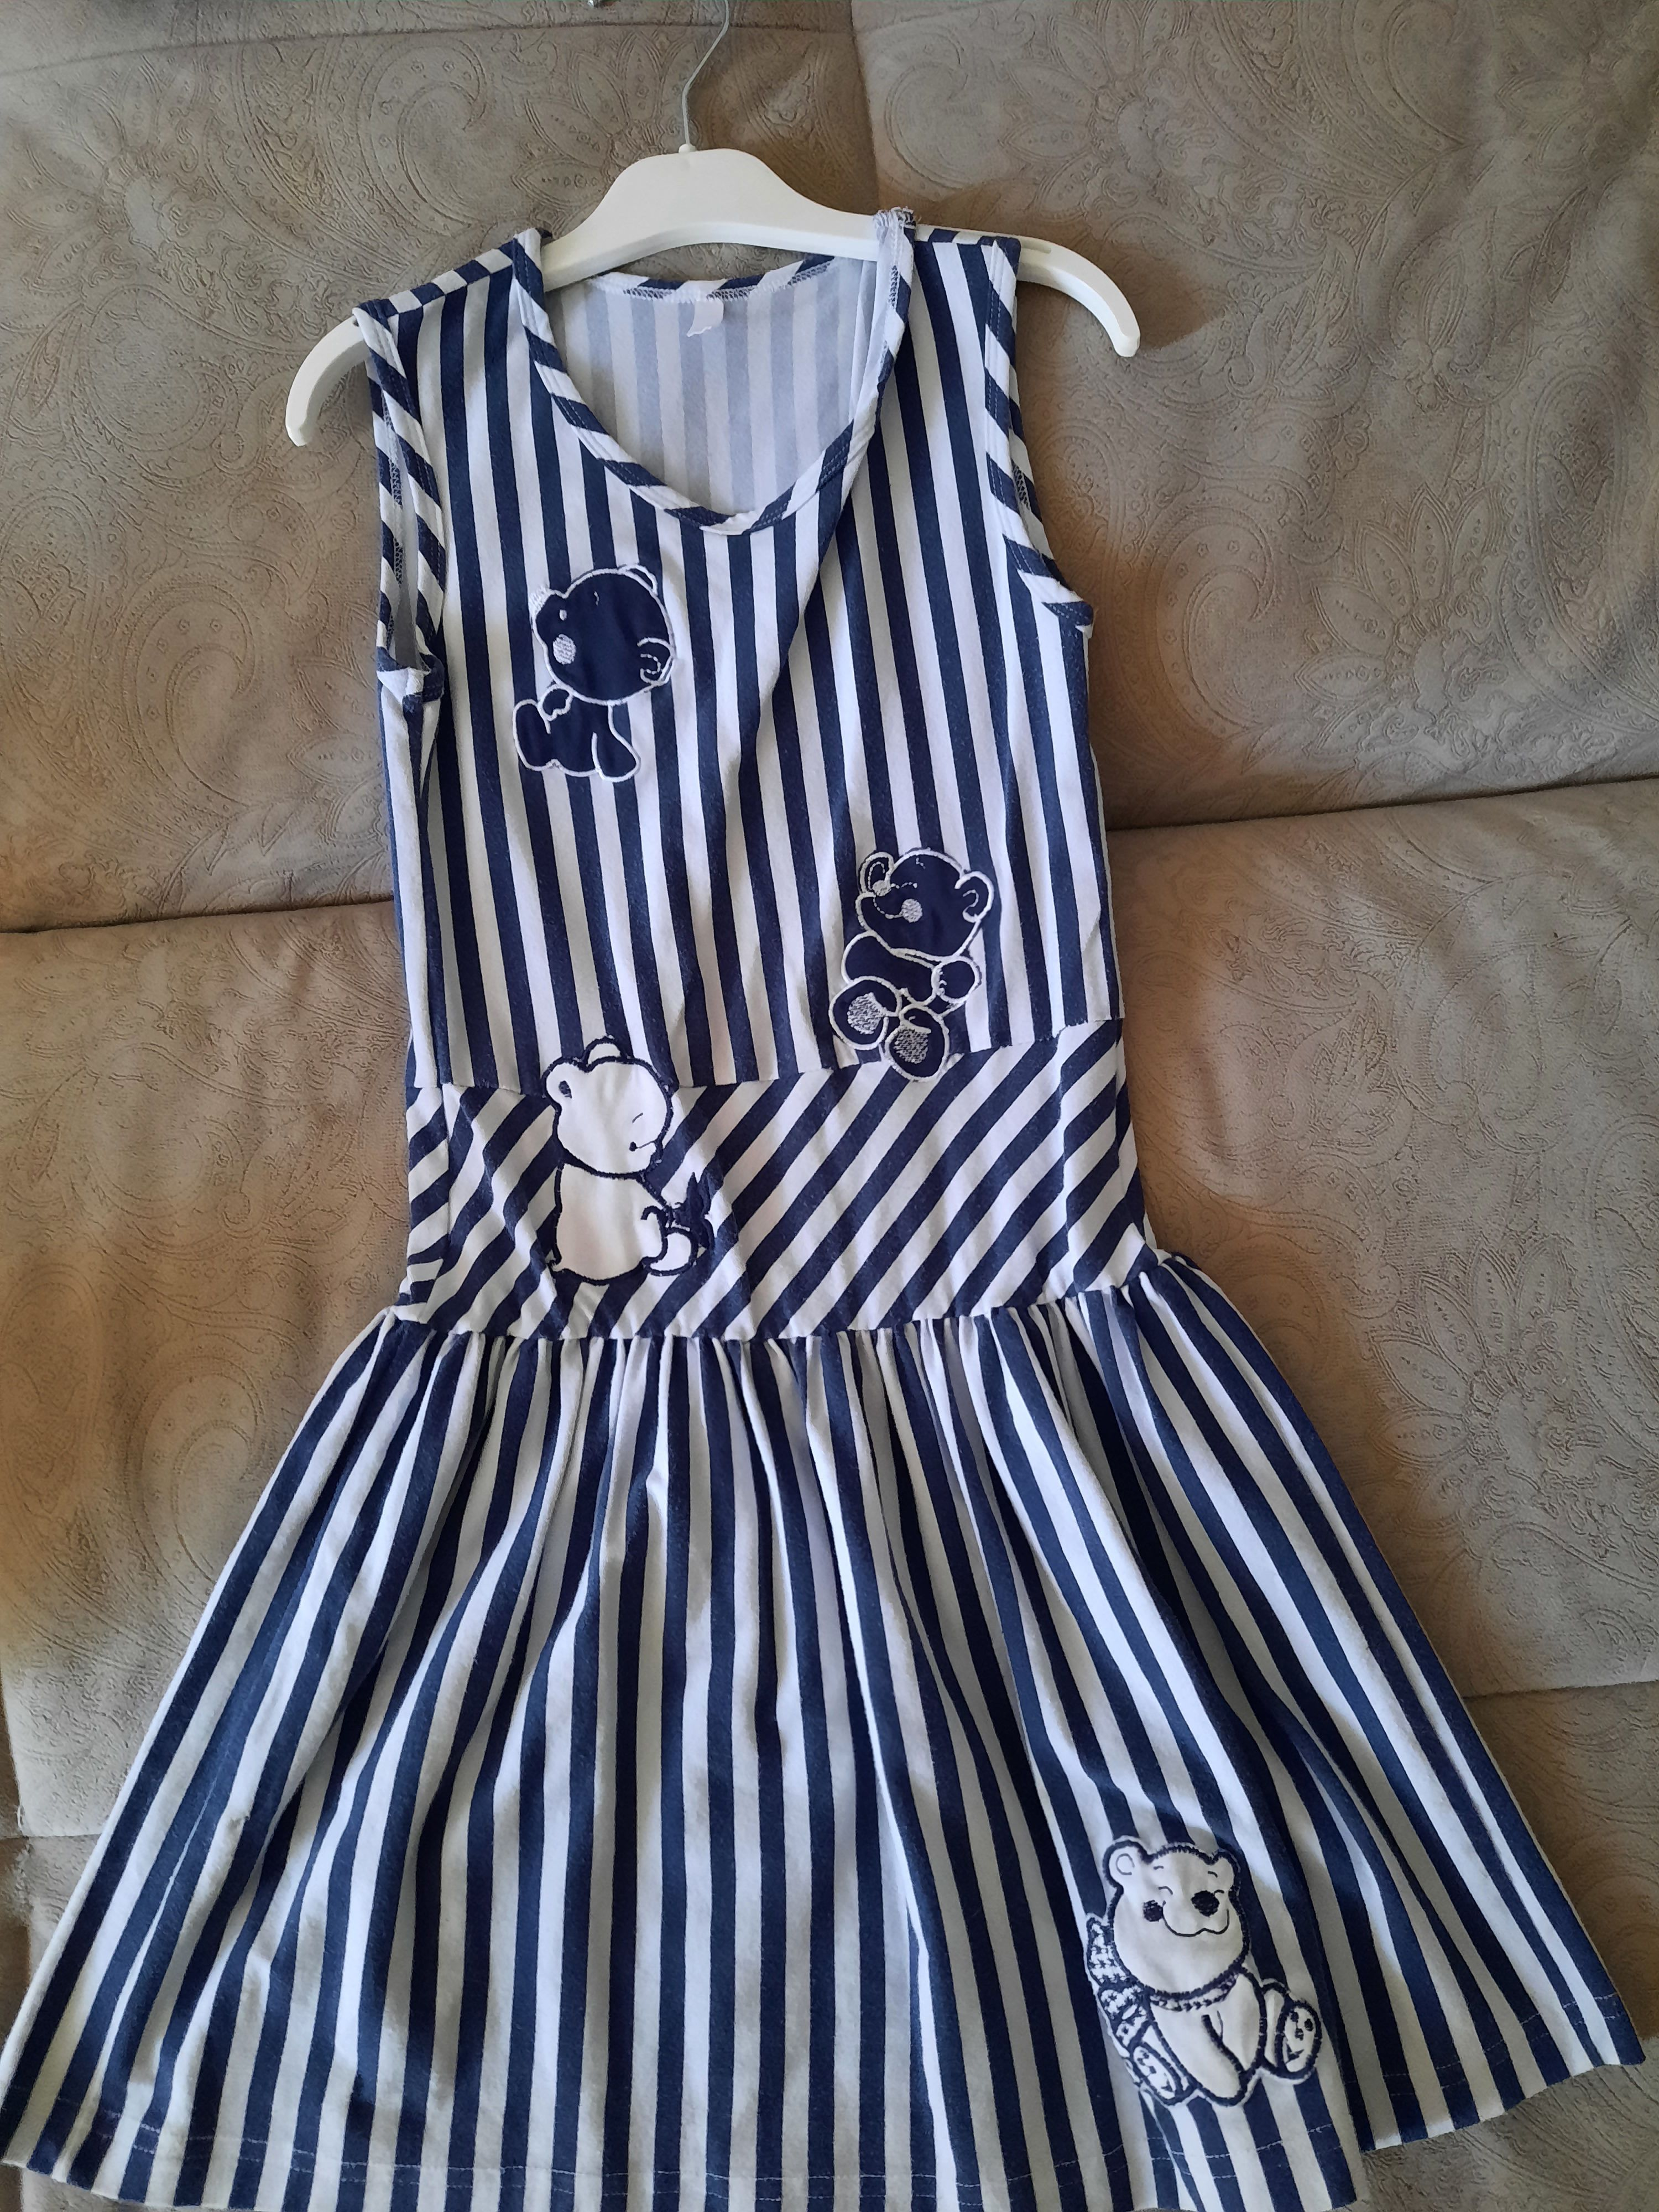clothes: (47, 218, 1659, 2195)
